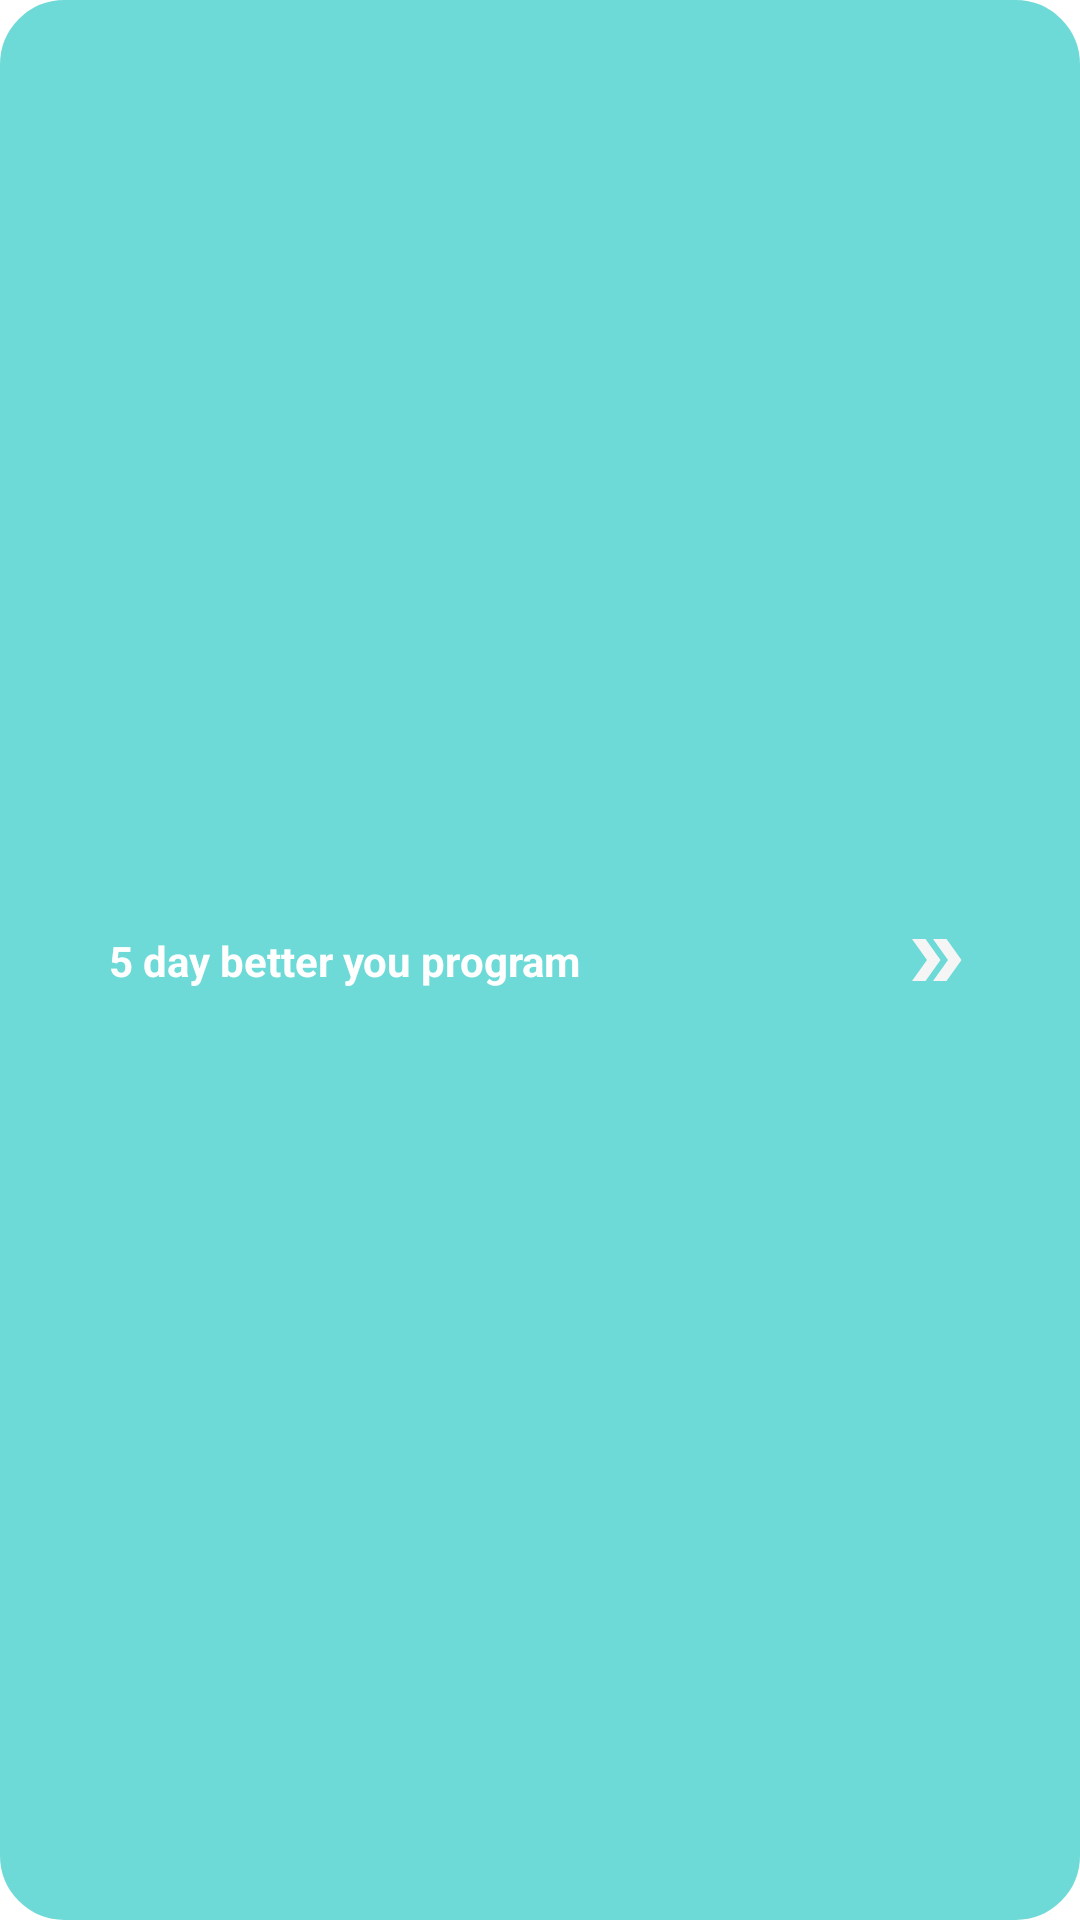

Icons on this 1080*1920 Android screen, each with its box as (x1, y1, x2, y2):
double arrow: (912, 939, 961, 981)
